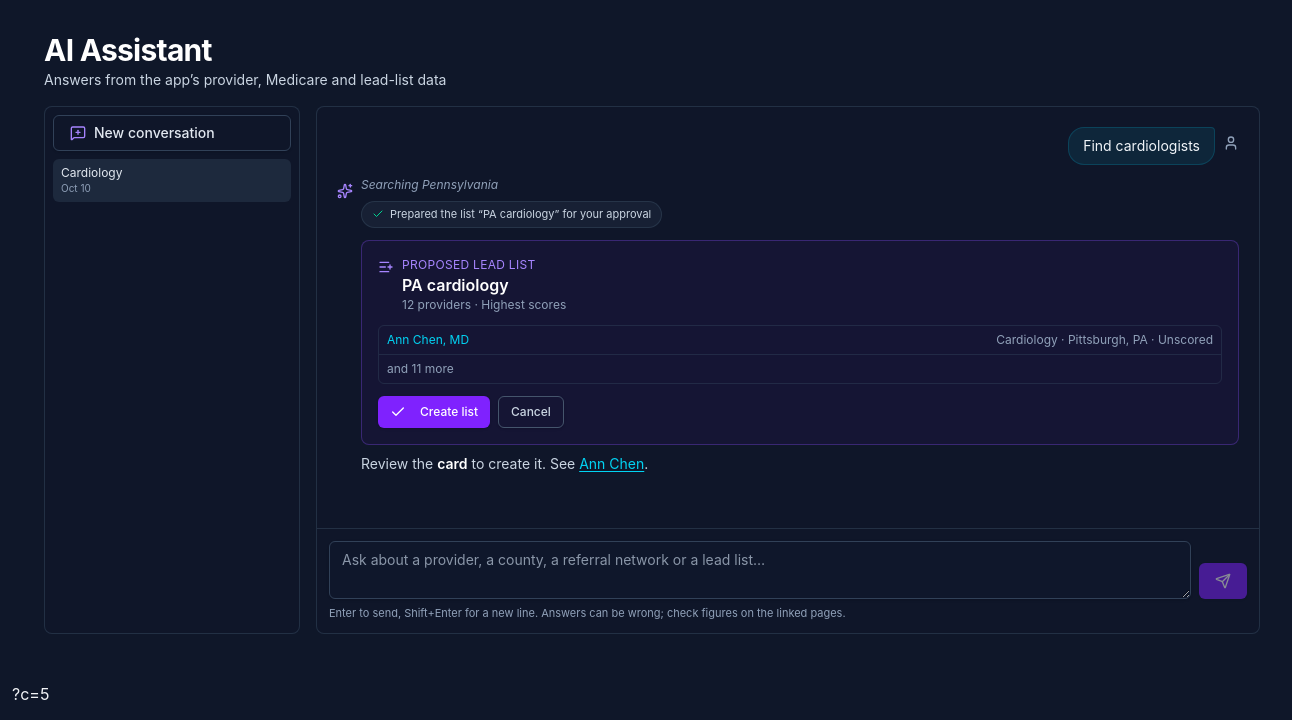
Test: AI Assistant page › creates the list only when the user confirms
Click the button "Create list".
click(434, 412)  # box [378,396,490,428]
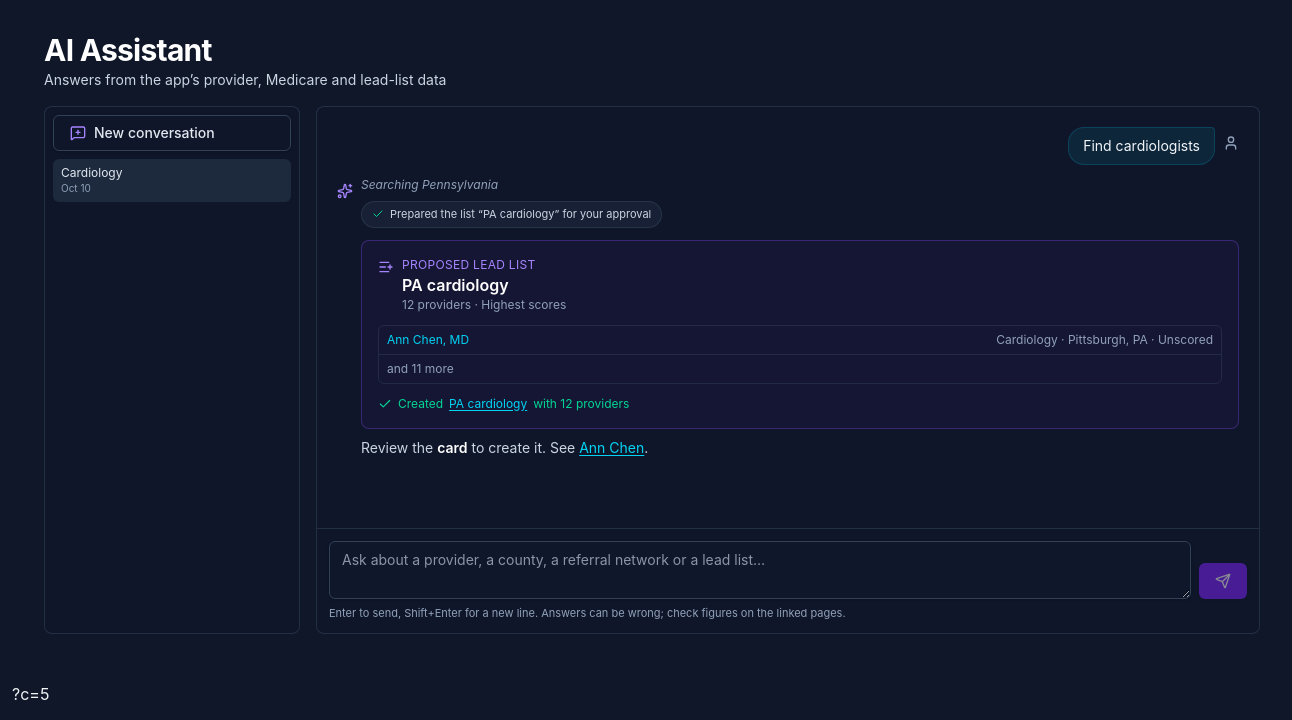
Check: the button "Create list" is gone
